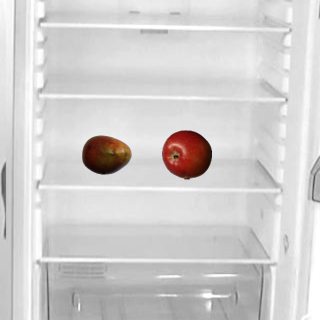Apple Braeburn: (161, 129, 211, 179)
Mango Red: (81, 129, 131, 179)
